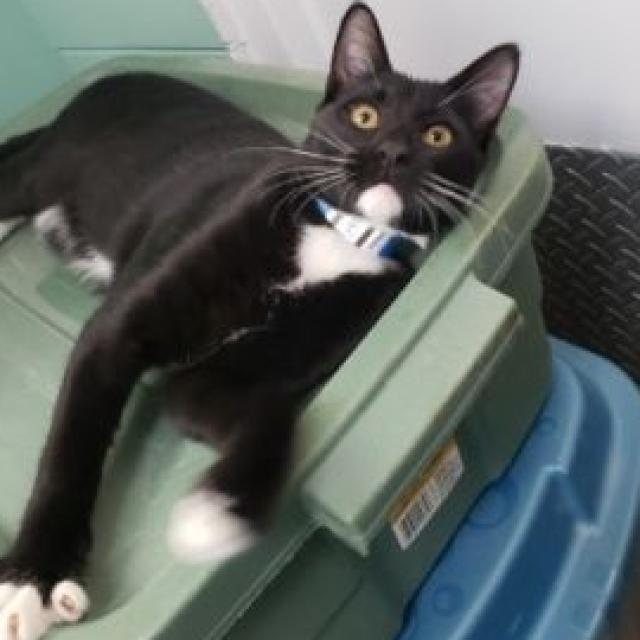Tuxedo: (0, 0, 526, 640)
